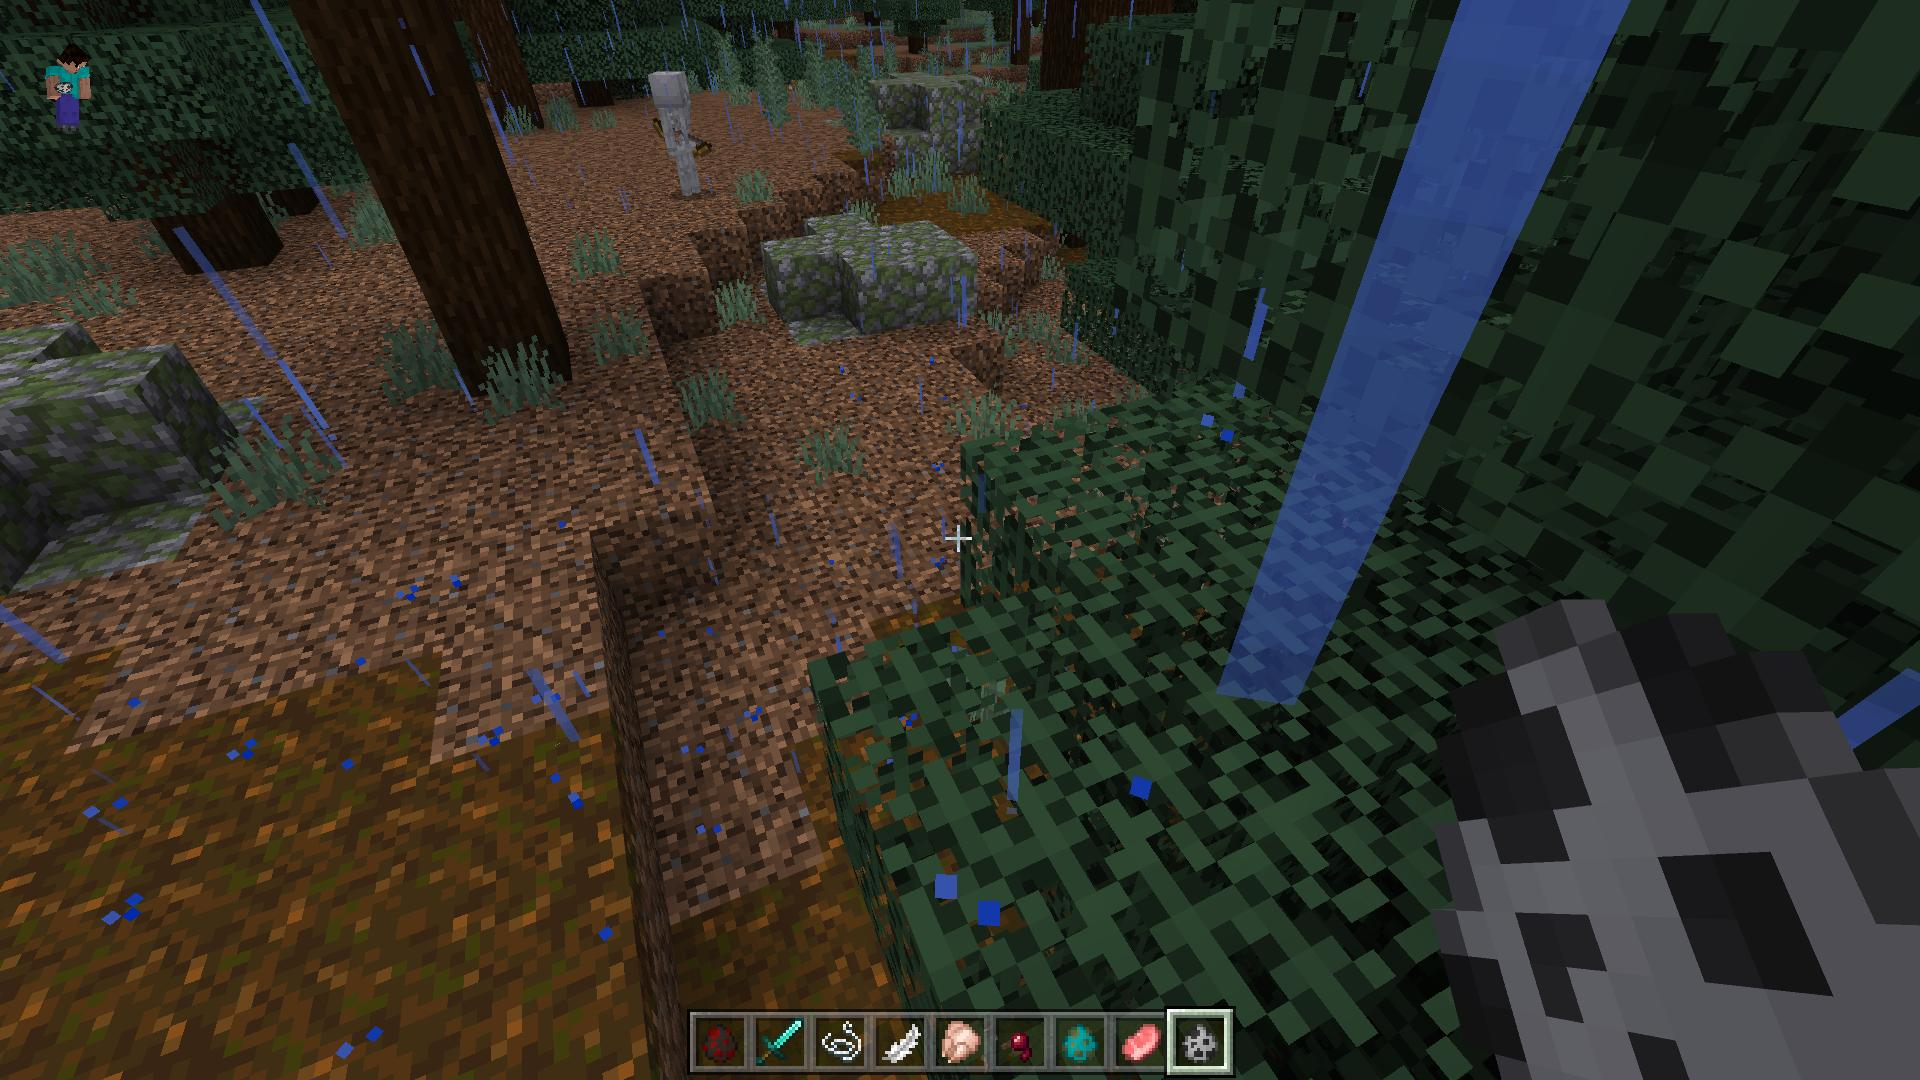skeleton: (646, 74, 709, 202)
